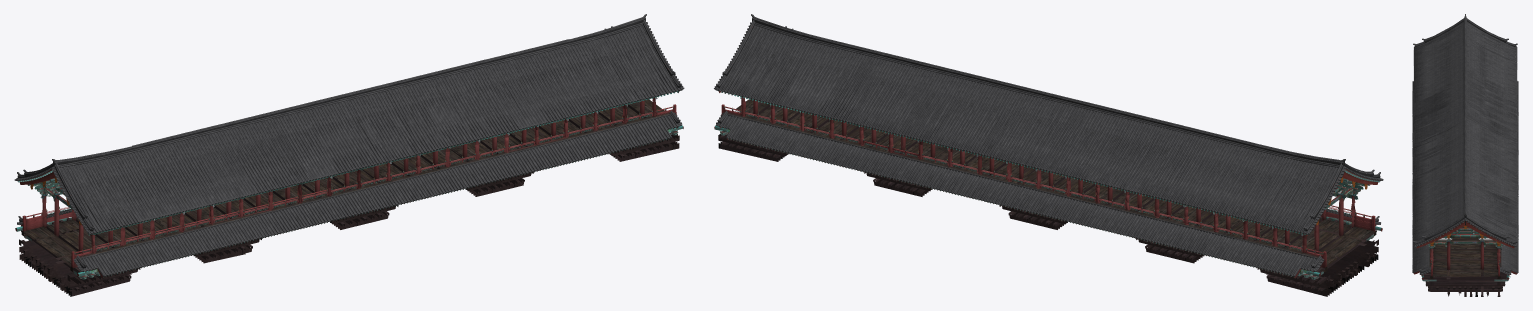
File: pavilion.glb
3 views of the same model, side by side, from view 1: azimuth 30°, elevation 25°; view 2: azimuth 150°, elevation 25°; view 3: azimuth 270°, elevation 25° (orthographic). The views are drawn at different scales.
Parts seen in each view (by area): view 1: SM_CWEB_002_GIWA_SM_CWEB_002_GIWA_0.004, SM_CWEB_002_GIWA_SM_CWEB_002_GIWA_0.003, SM_CWEB_002_GIWA_SM_CWEB_002_GIWA_0.002, SM_CWEB_002_GYOGAG_JANGMARU, SM_CWEB_002_GIWA_SM_CWEB_002_GIWA_0.005, SM_CWEB_002_GIWA, SM_CWEB_002_GYOGAG_BATCHIMMOCK_M004_SM_CWEB_002_GYOGAG_BATCH, SM_CWEB_002_NUGAG_GIDUNG_M002_SM_CWEB_002_NUGAG_GIDUNG_M002_, SM_CWEB_002_NUGAG_GIDUNG_M001_SM_CWEB_002_NUGAG_GIDUNG_M001_, SM_CWEB_002_GYOGAG_NANGAN_M004_SM_CWEB_002_GYOGAG_NANGAN_M00 (×2), SM_CWEB_002_GYOGAG_BATCHIMMOCK_M002_SM_CWEB_002_GYOGAG_BATCH, SM_CWEB_002_GYOGAG_NANGAN_M001_SM_CWEB_002_GYOGAG_NANGAN_M00 (+5 smaller); view 2: SM_CWEB_002_GIWA_SM_CWEB_002_GIWA_0.004, SM_CWEB_002_GIWA_SM_CWEB_002_GIWA_0.005, SM_CWEB_002_GIWA_SM_CWEB_002_GIWA_0.002, SM_CWEB_002_GIWA_SM_CWEB_002_GIWA_0.001, SM_CWEB_002_GIWA_SM_CWEB_002_GIWA_0.003, SM_CWEB_002_GYOGAG_JANGMARU, SM_CWEB_002_GIWA, SM_CWEB_002_GYOGAG_BATCHIMMOCK_M004_SM_CWEB_002_GYOGAG_BATCH, SM_CWEB_002_NUGAG_GIDUNG_M001_SM_CWEB_002_NUGAG_GIDUNG_M001_, SM_CWEB_002_NUGAG_GIDUNG_M002_SM_CWEB_002_NUGAG_GIDUNG_M002_, SM_CWEB_002_GYOGAG_NANGAN_M004_SM_CWEB_002_GYOGAG_NANGAN_M00 (×2), SM_CWEB_002_GYOGAG_BATCHIMMOCK_M002_SM_CWEB_002_GYOGAG_BATCH (+6 smaller); view 3: SM_CWEB_002_GIWA_SM_CWEB_002_GIWA_0.004, SM_CWEB_002_GIWA_SM_CWEB_002_GIWA_0.003, SM_CWEB_002_GIWA_SM_CWEB_002_GIWA_0.002, SM_CWEB_002_GYOGAG_JANGMARU, SM_CWEB_002_GYOGAG_BATCHIMMOCK_M002_SM_CWEB_002_GYOGAG_BATCH, SM_CWEB_002_GYOGAG_BATCHIMMOCK_M001_SM_CWEB_002_GYOGAG_BATCH, SM_CWEB_002_GIWA, SM_CWEB_002_NUGAG_CHUNJANG, SM_CWEB_002_GYOGAG_BATCHIMMOCK_M004_SM_CWEB_002_GYOGAG_BATCH, SM_CWEB_002_NUGAG_GIDUNG_M001_SM_CWEB_002_NUGAG_GIDUNG_M001_, SM_CWEB_002_NUGAG_CHANGBANG_M001_SM_CWEB_002_NUGAG_CHANGBANG, SM_CWEB_002_NUGAG_GIDUNG_M002_SM_CWEB_002_NUGAG_GIDUNG_M002_ (+4 smaller).
Part boxes in pixels (x1=…): SM_CWEB_002_GIWA_SM_CWEB_002_GIWA_0.004: x1=16, y1=22, x2=682, y2=276; SM_CWEB_002_GIWA_SM_CWEB_002_GIWA_0.003: x1=14, y1=14, x2=684, y2=234; SM_CWEB_002_GIWA_SM_CWEB_002_GIWA_0.002: x1=17, y1=18, x2=681, y2=276; SM_CWEB_002_GYOGAG_JANGMARU: x1=24, y1=99, x2=664, y2=266; SM_CWEB_002_GIWA_SM_CWEB_002_GIWA_0.005: x1=60, y1=27, x2=675, y2=233; SM_CWEB_002_GIWA: x1=24, y1=23, x2=682, y2=275; SM_CWEB_002_GYOGAG_BATCHIMMOCK_M004_SM_CWEB_002_GYOGAG_BATCH: x1=19, y1=134, x2=679, y2=296; SM_CWEB_002_NUGAG_GIDUNG_M002_SM_CWEB_002_NUGAG_GIDUNG_M002_: x1=42, y1=97, x2=656, y2=253; SM_CWEB_002_NUGAG_GIDUNG_M001_SM_CWEB_002_NUGAG_GIDUNG_M001_: x1=54, y1=100, x2=644, y2=253; SM_CWEB_002_GYOGAG_NANGAN_M004_SM_CWEB_002_GYOGAG_NANGAN_M00 (×2): x1=46, y1=111, x2=652, y2=251; SM_CWEB_002_GYOGAG_BATCHIMMOCK_M002_SM_CWEB_002_GYOGAG_BATCH: x1=21, y1=134, x2=677, y2=291; SM_CWEB_002_GYOGAG_NANGAN_M001_SM_CWEB_002_GYOGAG_NANGAN_M00: x1=45, y1=112, x2=652, y2=249; SM_CWEB_002_GIWA_SM_CWEB_002_GIWA_0.004: x1=715, y1=22, x2=1381, y2=276; SM_CWEB_002_GIWA_SM_CWEB_002_GIWA_0.005: x1=719, y1=26, x2=1337, y2=233; SM_CWEB_002_GIWA_SM_CWEB_002_GIWA_0.002: x1=716, y1=18, x2=1380, y2=276; SM_CWEB_002_GIWA_SM_CWEB_002_GIWA_0.001: x1=720, y1=57, x2=1318, y2=276; SM_CWEB_002_GIWA_SM_CWEB_002_GIWA_0.003: x1=714, y1=14, x2=1383, y2=234; SM_CWEB_002_GYOGAG_JANGMARU: x1=733, y1=99, x2=1373, y2=266; SM_CWEB_002_GIWA: x1=715, y1=23, x2=1380, y2=275; SM_CWEB_002_GYOGAG_BATCHIMMOCK_M004_SM_CWEB_002_GYOGAG_BATCH: x1=718, y1=134, x2=1378, y2=296; SM_CWEB_002_NUGAG_GIDUNG_M001_SM_CWEB_002_NUGAG_GIDUNG_M001_: x1=753, y1=99, x2=1343, y2=253; SM_CWEB_002_NUGAG_GIDUNG_M002_SM_CWEB_002_NUGAG_GIDUNG_M002_: x1=741, y1=97, x2=1355, y2=252; SM_CWEB_002_GYOGAG_NANGAN_M004_SM_CWEB_002_GYOGAG_NANGAN_M00 (×2): x1=745, y1=111, x2=1352, y2=251; SM_CWEB_002_GYOGAG_BATCHIMMOCK_M002_SM_CWEB_002_GYOGAG_BATCH: x1=720, y1=134, x2=1376, y2=291; SM_CWEB_002_GIWA_SM_CWEB_002_GIWA_0.004: x1=1412, y1=23, x2=1517, y2=275; SM_CWEB_002_GIWA_SM_CWEB_002_GIWA_0.003: x1=1413, y1=14, x2=1517, y2=246; SM_CWEB_002_GIWA_SM_CWEB_002_GIWA_0.002: x1=1412, y1=16, x2=1518, y2=274; SM_CWEB_002_GYOGAG_JANGMARU: x1=1432, y1=230, x2=1498, y2=276; SM_CWEB_002_GYOGAG_BATCHIMMOCK_M002_SM_CWEB_002_GYOGAG_BATCH: x1=1425, y1=280, x2=1505, y2=291; SM_CWEB_002_GYOGAG_BATCHIMMOCK_M001_SM_CWEB_002_GYOGAG_BATCH: x1=1421, y1=239, x2=1510, y2=280; SM_CWEB_002_GIWA: x1=1417, y1=20, x2=1513, y2=274; SM_CWEB_002_NUGAG_CHUNJANG: x1=1415, y1=220, x2=1514, y2=248; SM_CWEB_002_GYOGAG_BATCHIMMOCK_M004_SM_CWEB_002_GYOGAG_BATCH: x1=1431, y1=286, x2=1500, y2=296; SM_CWEB_002_NUGAG_GIDUNG_M001_SM_CWEB_002_NUGAG_GIDUNG_M001_: x1=1447, y1=241, x2=1483, y2=269; SM_CWEB_002_NUGAG_CHANGBANG_M001_SM_CWEB_002_NUGAG_CHANGBANG: x1=1446, y1=231, x2=1484, y2=243; SM_CWEB_002_NUGAG_GIDUNG_M002_SM_CWEB_002_NUGAG_GIDUNG_M002_: x1=1430, y1=247, x2=1500, y2=269.
Bounding box in the file's own units: 65.06 × 11.99 × 14.27.
Materials: 46 (45 with a texture image).
